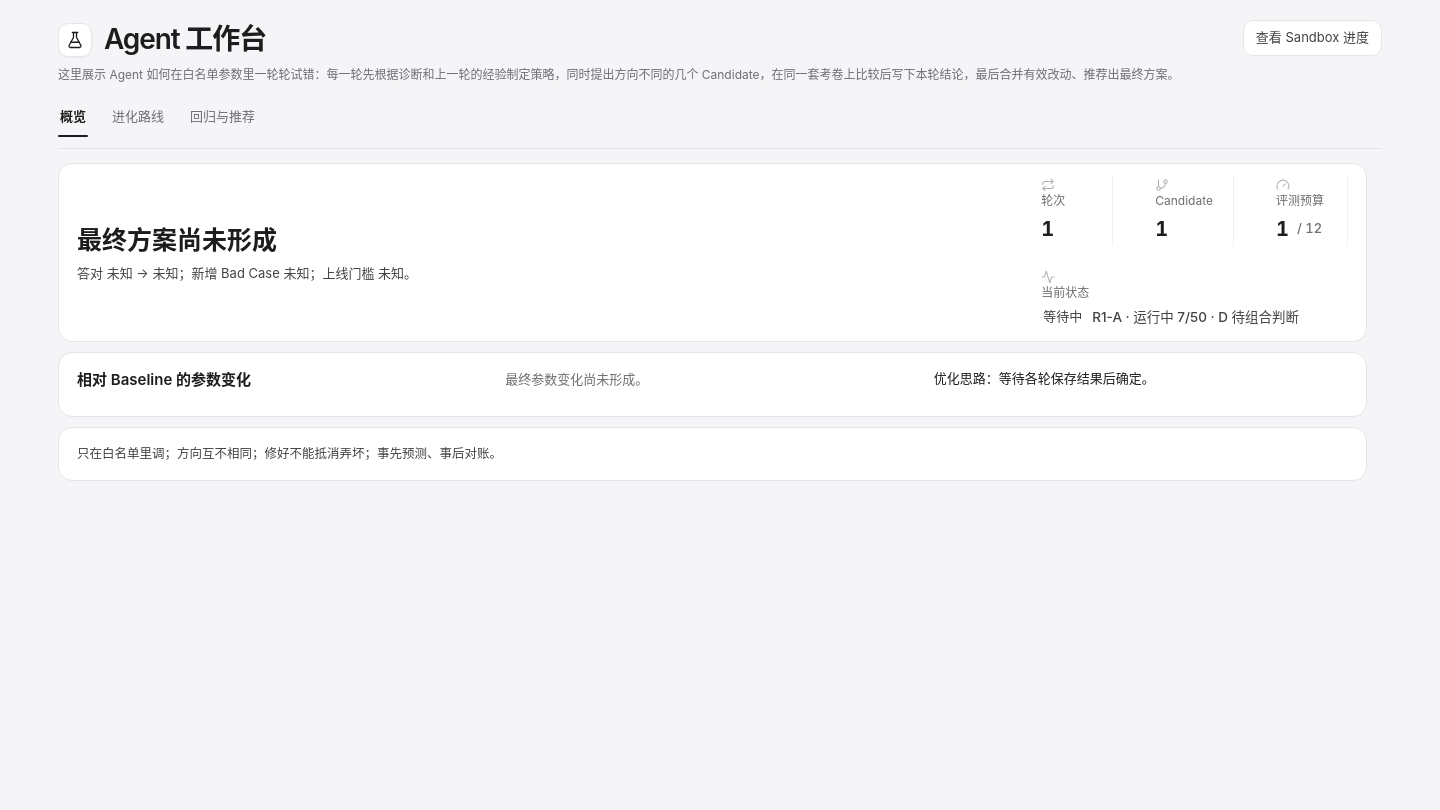
Test: removes repeated strategy fields and keeps one before/after parameter list
The image size is (1440, 810).
Click the button "进化路线": coordinates (138, 116) [110,96,166,136]
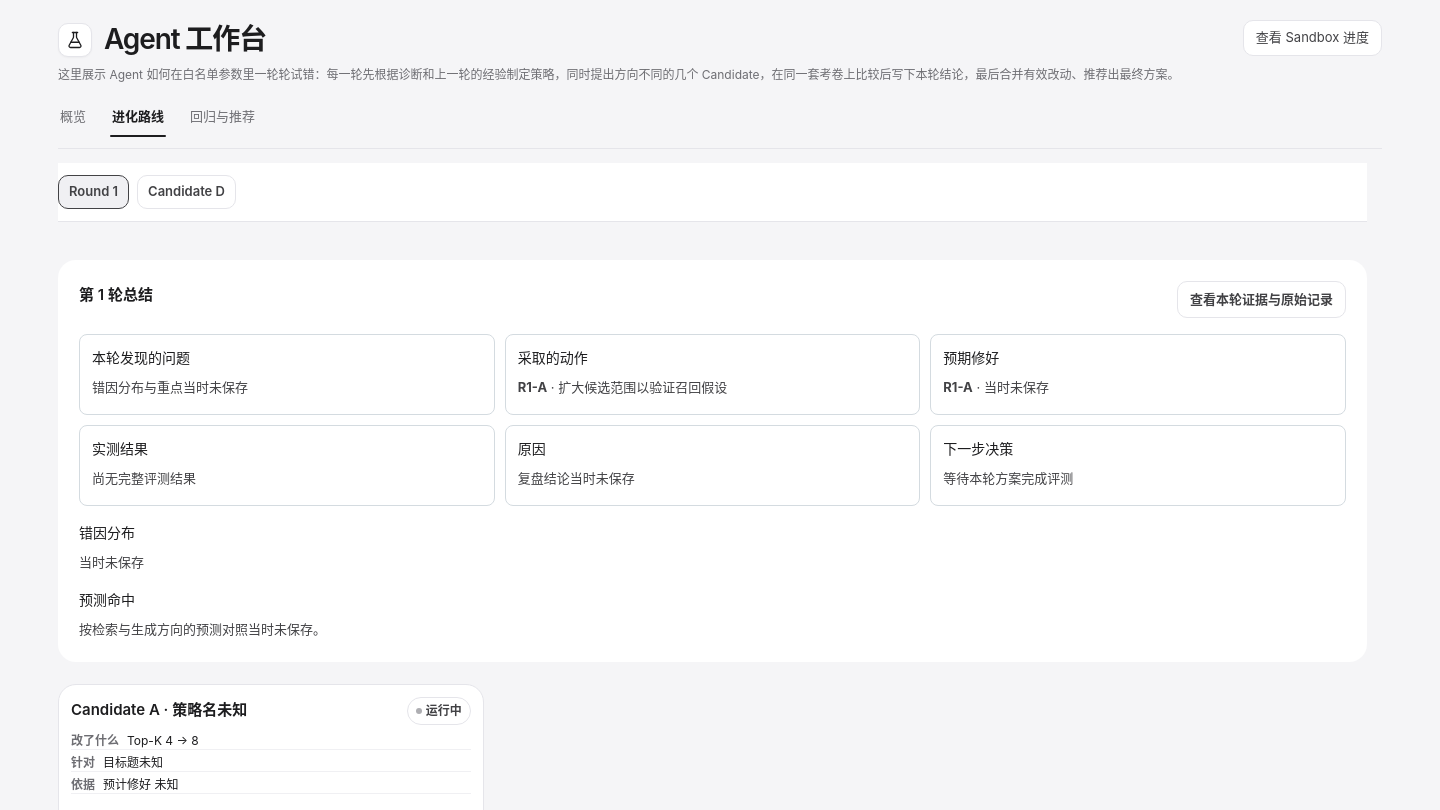
Check: the element with class "candidate-summary-row" shows "Top-K 4 → 8", box [127,733,199,748]
